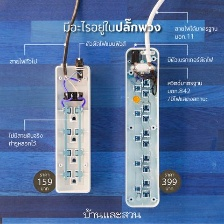three_eye_plug: (122, 44, 161, 209), (49, 61, 93, 195)
